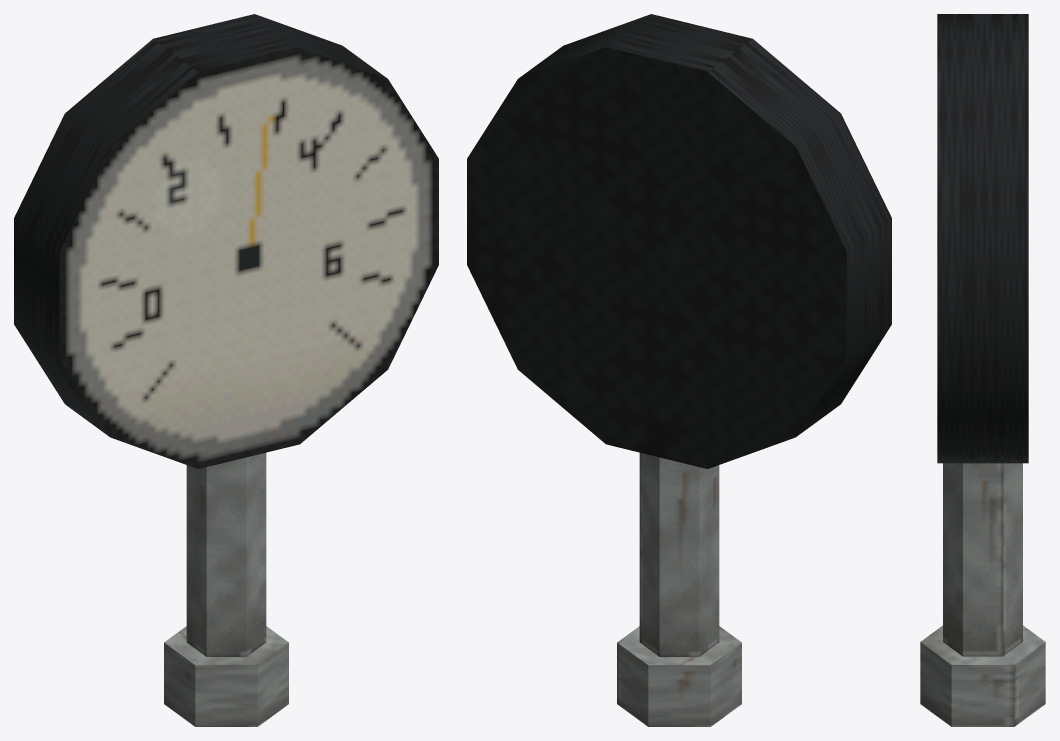
Rendered from SKC-PSX_04_PressureGauge.fbx.
3 renders of one model, left to right at view 1: azimuth 30°, elevation 25°; view 2: azimuth 150°, elevation 25°; view 3: azimuth 270°, elevation 25°, orthographic.
Parts seen in each view (by area): view 1: SKC-PSX_04_PressureGauge; view 2: SKC-PSX_04_PressureGauge; view 3: SKC-PSX_04_PressureGauge.
Boxes of the visible parts, x1,y1,x2,y2 form: SKC-PSX_04_PressureGauge: [14, 14, 438, 726]; SKC-PSX_04_PressureGauge: [467, 14, 891, 726]; SKC-PSX_04_PressureGauge: [920, 14, 1045, 726].
Size of the model in its own units: 7.73 by 12.86 by 2.2.
Materials: 1 (1 with a texture image).
